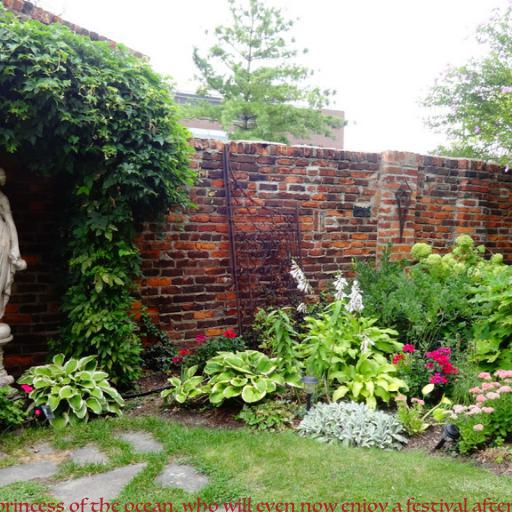Luminari: (0, 497, 512, 512)
